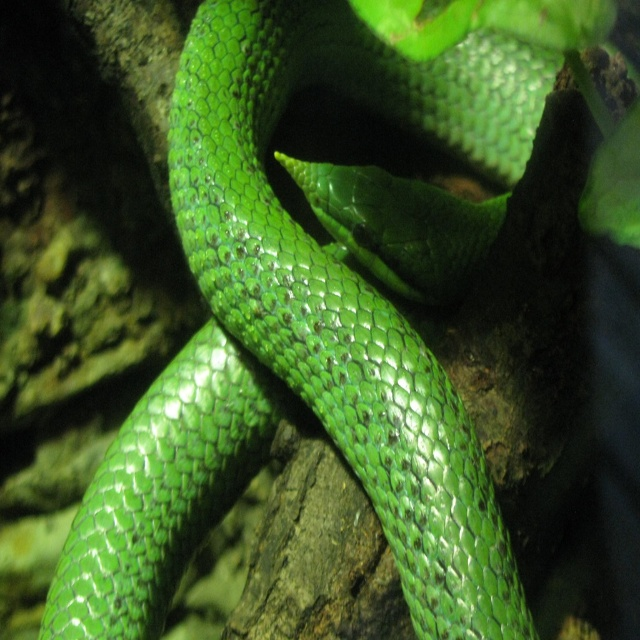Snake: (37, 0, 577, 639)
